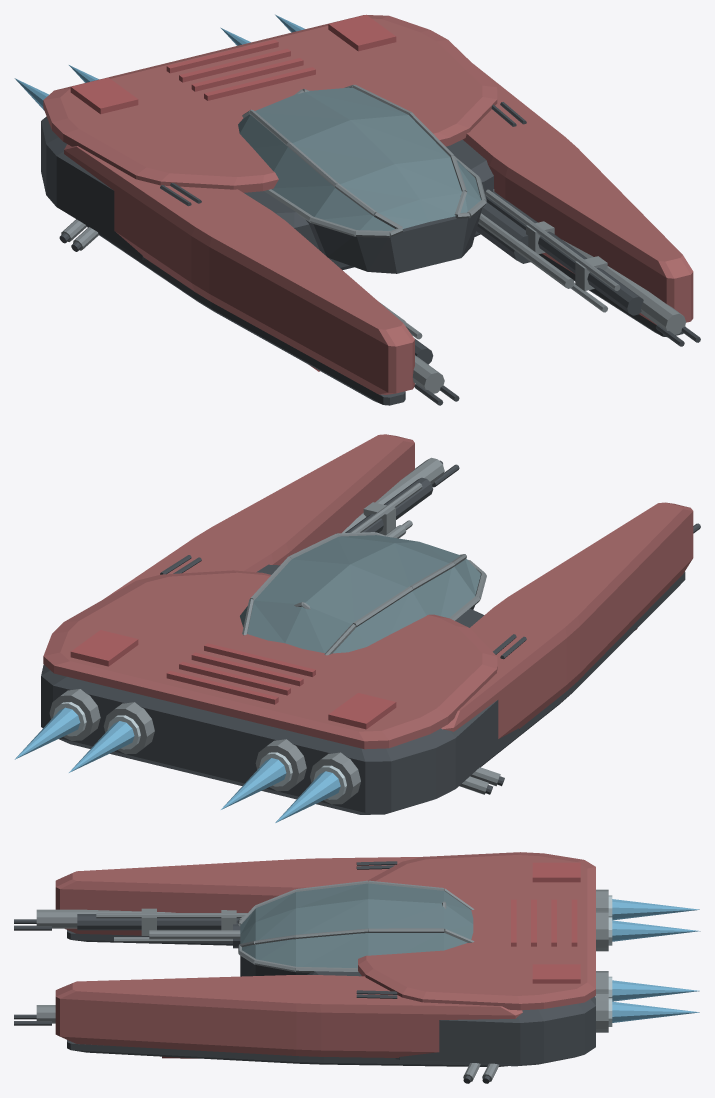
The model's file is x6_red_flight.glb.
The picture shows the model from 3 angles, top to bottom: view 1: azimuth 30°, elevation 25°; view 2: azimuth 150°, elevation 25°; view 3: azimuth 270°, elevation 25°; orthographic projection. The views are drawn at different scales.
Parts seen in each view (by area): view 1: material_1, material_4, material_0, material_2, material_3, material_6; view 2: material_1, material_0, material_4, material_2, material_3, material_6, material_5; view 3: material_1, material_0, material_4, material_2, material_6, material_3, material_5.
Boxes of the visible parts, x1,y1,x2,y2 form: material_1: [43, 15, 693, 394]; material_4: [238, 87, 480, 230]; material_0: [41, 102, 700, 405]; material_2: [61, 84, 685, 393]; material_3: [70, 14, 396, 371]; material_6: [14, 14, 305, 110]; material_1: [43, 434, 693, 749]; material_0: [41, 460, 700, 814]; material_4: [240, 535, 480, 653]; material_2: [49, 457, 500, 804]; material_3: [70, 628, 637, 729]; material_6: [14, 707, 340, 822]; material_5: [53, 702, 346, 799]; material_1: [55, 852, 595, 1057]; material_0: [14, 861, 595, 1083]; material_4: [240, 883, 473, 968]; material_2: [36, 880, 608, 1081]; material_6: [612, 899, 700, 1022]; material_3: [162, 862, 580, 1058]; material_5: [608, 895, 612, 1026].
Size of the model in its own units: 3.18 by 0.8789 by 5.43.
